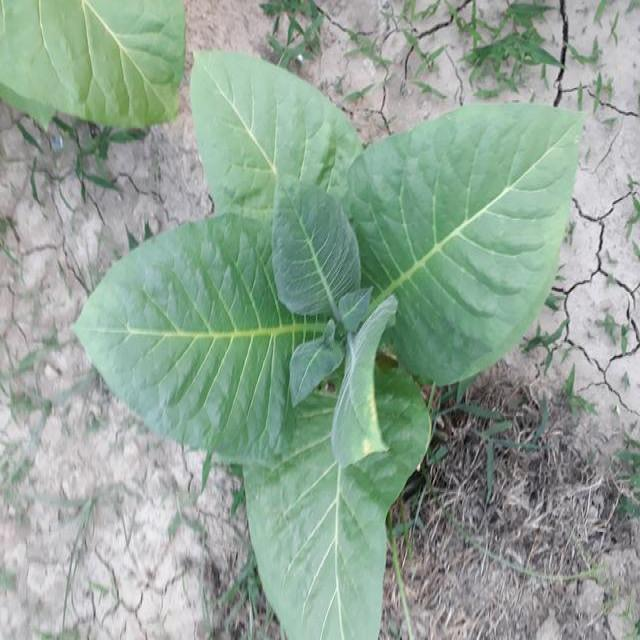crop: (82, 47, 581, 640)
